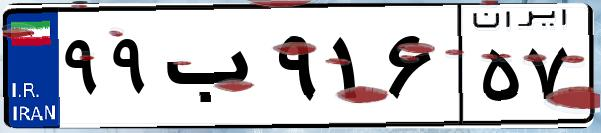1: (330, 28, 385, 110)
5: (475, 38, 525, 113)
6: (385, 28, 445, 110)
7: (525, 38, 570, 115)
9: (270, 28, 330, 110), (57, 26, 110, 100), (110, 28, 158, 98)
ب: (158, 20, 270, 120)
